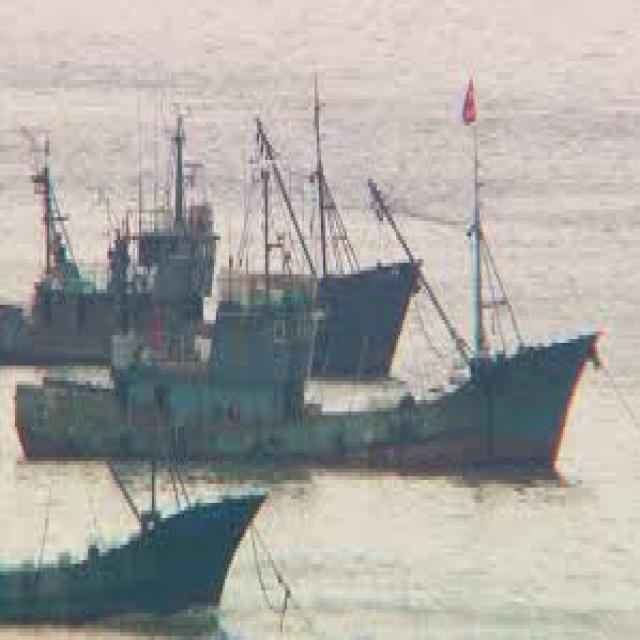Ship: (22, 245, 607, 523), (1, 197, 424, 374), (1, 473, 281, 640)
